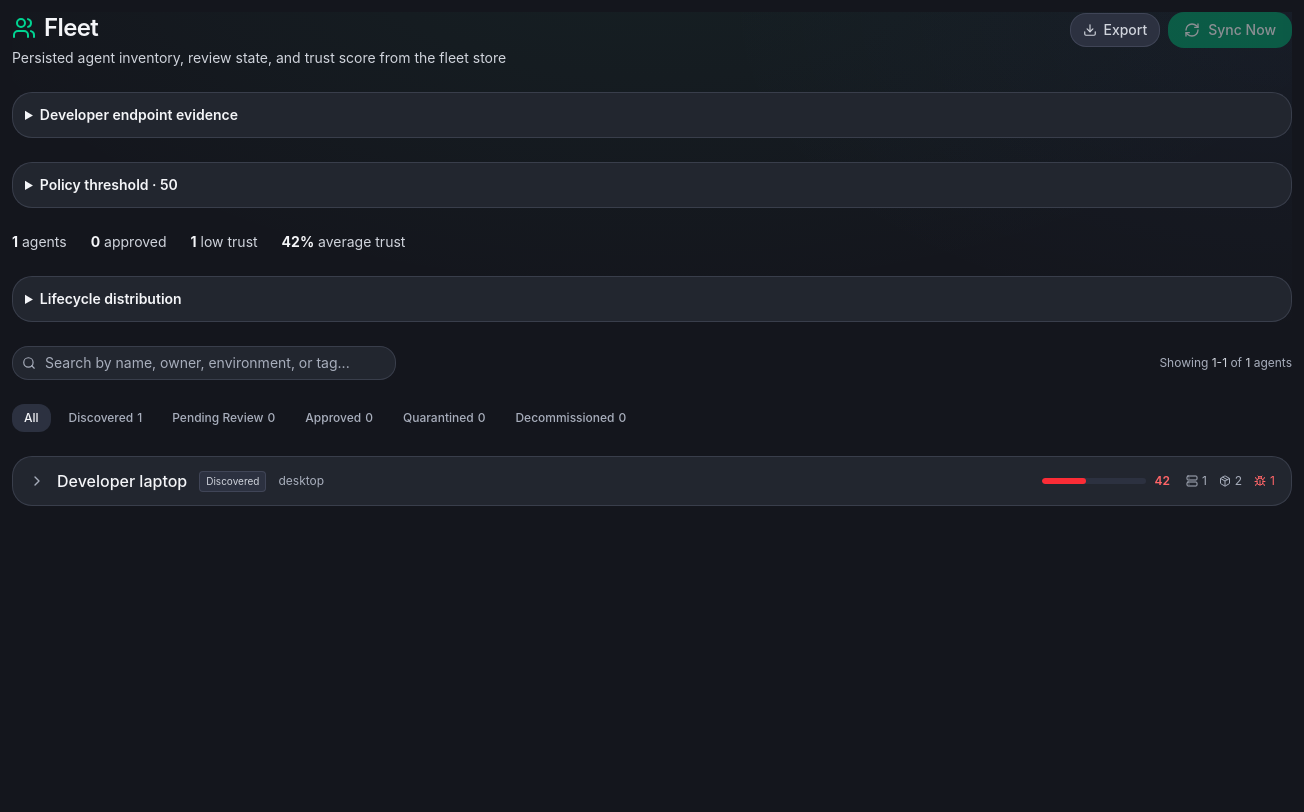
FleetPage protected actions › keeps sync, lifecycle, and quarantine controls disabled for viewers
Expected: the button "Sync Now" is disabled, x1=1168 y1=12 x2=1292 y2=48
Click the button "Developer laptop Discovered desktop 42 1 2 1": (122, 481) x1=13 y1=457 x2=1291 y2=505
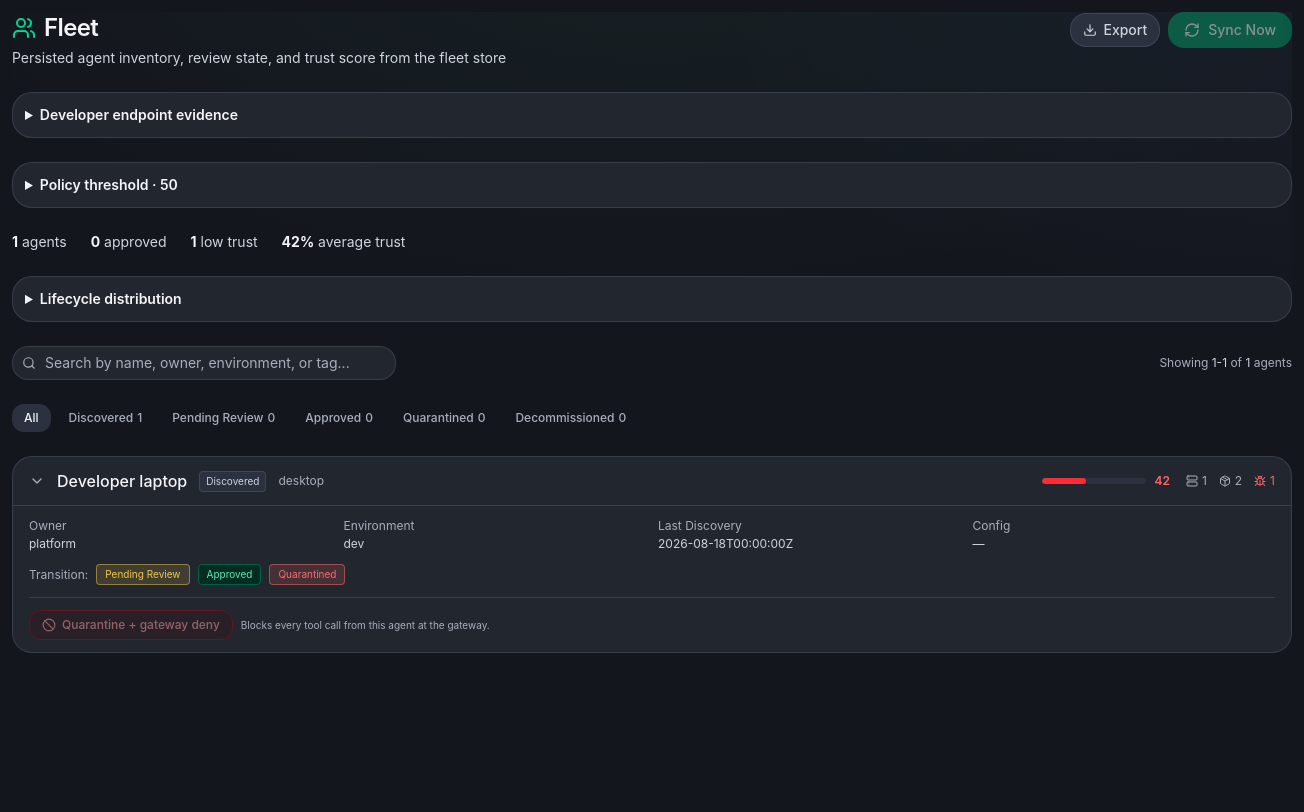
Expected: the button "Pending Review" is disabled, x1=96 y1=564 x2=190 y2=585
Expected: the button with test id "fleet-quarantine-deny" is disabled, x1=29 y1=610 x2=233 y2=640
